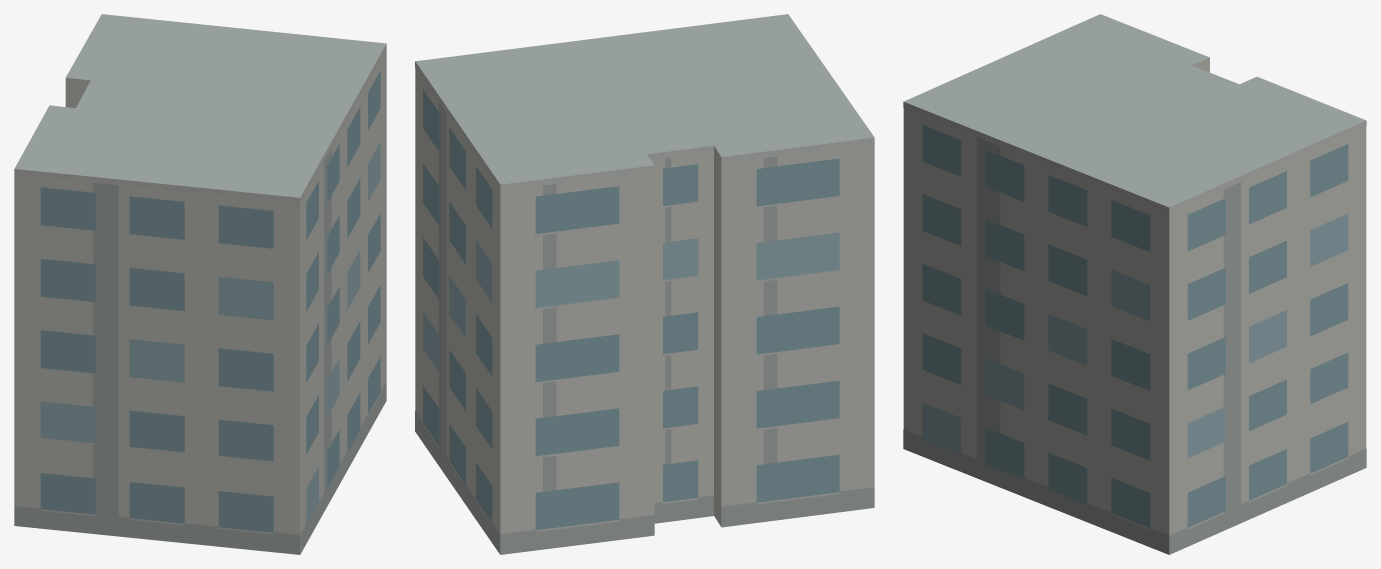
File: survey-upis-33009972.glb
The picture shows the model from 3 angles, left to right: view 1: azimuth 30°, elevation 25°; view 2: azimuth 150°, elevation 25°; view 3: azimuth 270°, elevation 25°; orthographic projection. The views are drawn at different scales.
Parts seen in each view (by area): view 1: survey-upis-33009972.tmp; view 2: survey-upis-33009972.tmp; view 3: survey-upis-33009972.tmp.
Boxes of the visible parts, x1,y1,x2,y2 form: survey-upis-33009972.tmp: [14, 14, 386, 554]; survey-upis-33009972.tmp: [415, 14, 874, 554]; survey-upis-33009972.tmp: [903, 14, 1366, 554].
Size of the model in its own units: 16.97 by 14.2 by 17.16.
